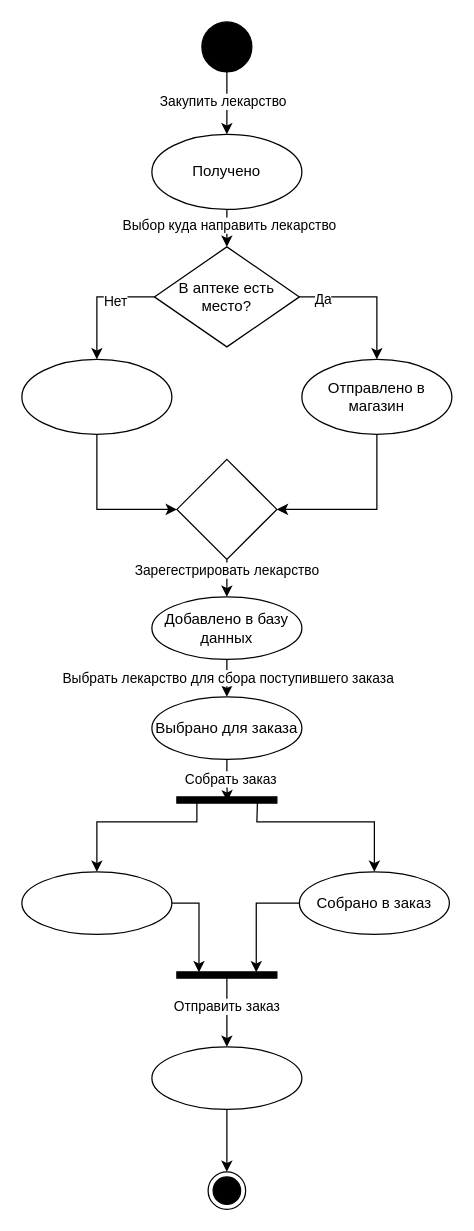
This 474x1231 diagram has some shape labels left out. Here are the shapes that lost their labels. From the top down, the box of each, then its label:
(21, 358, 172, 434): Отправлено на склад
(21, 871, 172, 934): Статус изменен на "Доставляющийся"
(151, 1046, 302, 1109): Удален из базы данных
